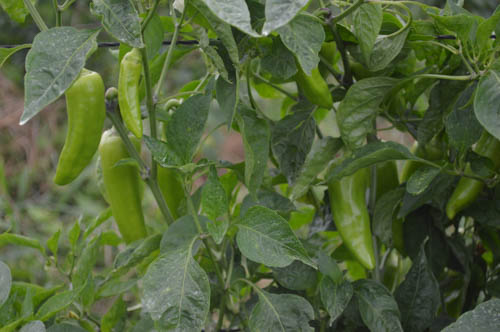ChiliPepper: (326, 165, 373, 279), (59, 72, 104, 189), (100, 133, 144, 243), (444, 131, 492, 223), (370, 149, 407, 248), (117, 54, 148, 141), (155, 134, 184, 220), (295, 52, 334, 106)
